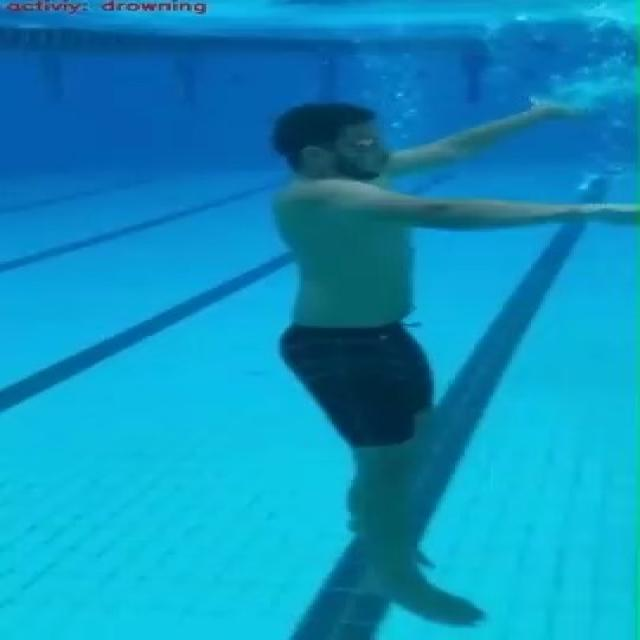Drowning: (265, 94, 640, 630)
